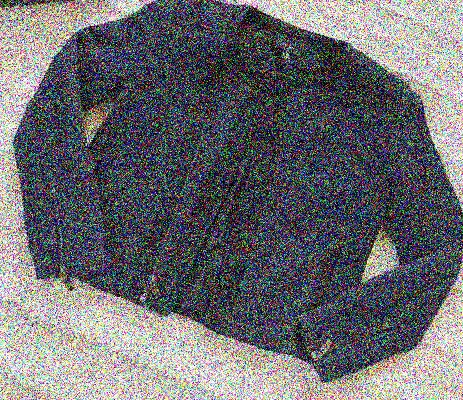Blazer: (11, 5, 459, 382)
